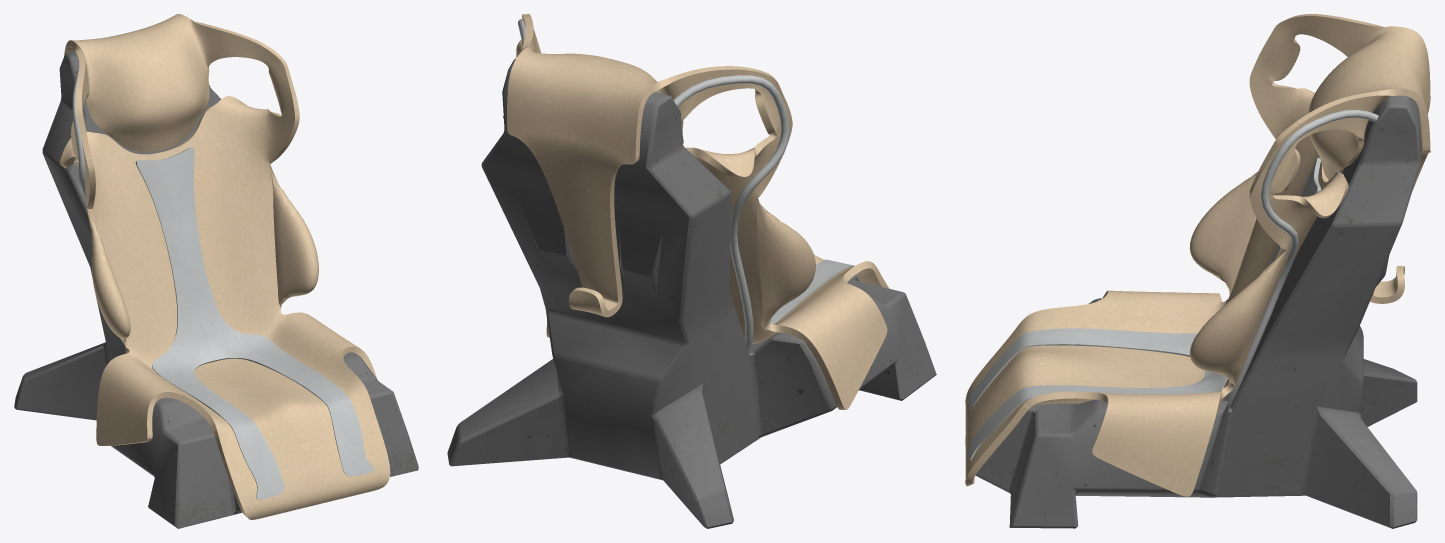
File: chair.glb
3 views of the same model, side by side, from view 1: azimuth 30°, elevation 25°; view 2: azimuth 150°, elevation 25°; view 3: azimuth 270°, elevation 25° (orthographic). The views are drawn at different scales.
Parts seen in each view (by area): view 1: Cube_0, Cube.001_3, Cube.002_4, BezierCurve.001_6; view 2: Cube.001_3, Cube_0, BezierCurve.001_6, Cube.002_4; view 3: Cube_0, Cube.001_3, Cube.002_4, BezierCurve.001_6.
Boxes of the visible parts, left/top/right/bottom form: Cube_0: left=60, top=14, right=390, bottom=519; Cube.001_3: left=14, top=51, right=418, bottom=528; Cube.002_4: left=135, top=147, right=373, bottom=499; BezierCurve.001_6: left=72, top=70, right=86, bottom=199; Cube.001_3: left=447, top=58, right=936, bottom=528; Cube_0: left=503, top=14, right=888, bottom=409; BezierCurve.001_6: left=518, top=19, right=789, bottom=351; Cube.002_4: left=770, top=259, right=854, bottom=324; Cube_0: left=965, top=14, right=1430, bottom=496; Cube.001_3: left=975, top=95, right=1421, bottom=528; Cube.002_4: left=968, top=157, right=1320, bottom=460; BezierCurve.001_6: left=1224, top=109, right=1378, bottom=407.
Size of the model in its own units: 3.23 by 4.38 by 4.56.
Materials: 3 (3 with a texture image).
